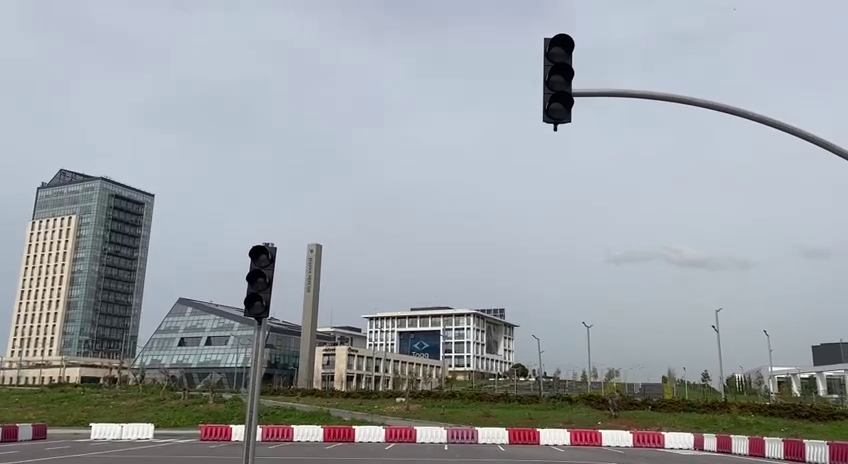trafficLight: (537, 28, 579, 134), (241, 238, 279, 322)
